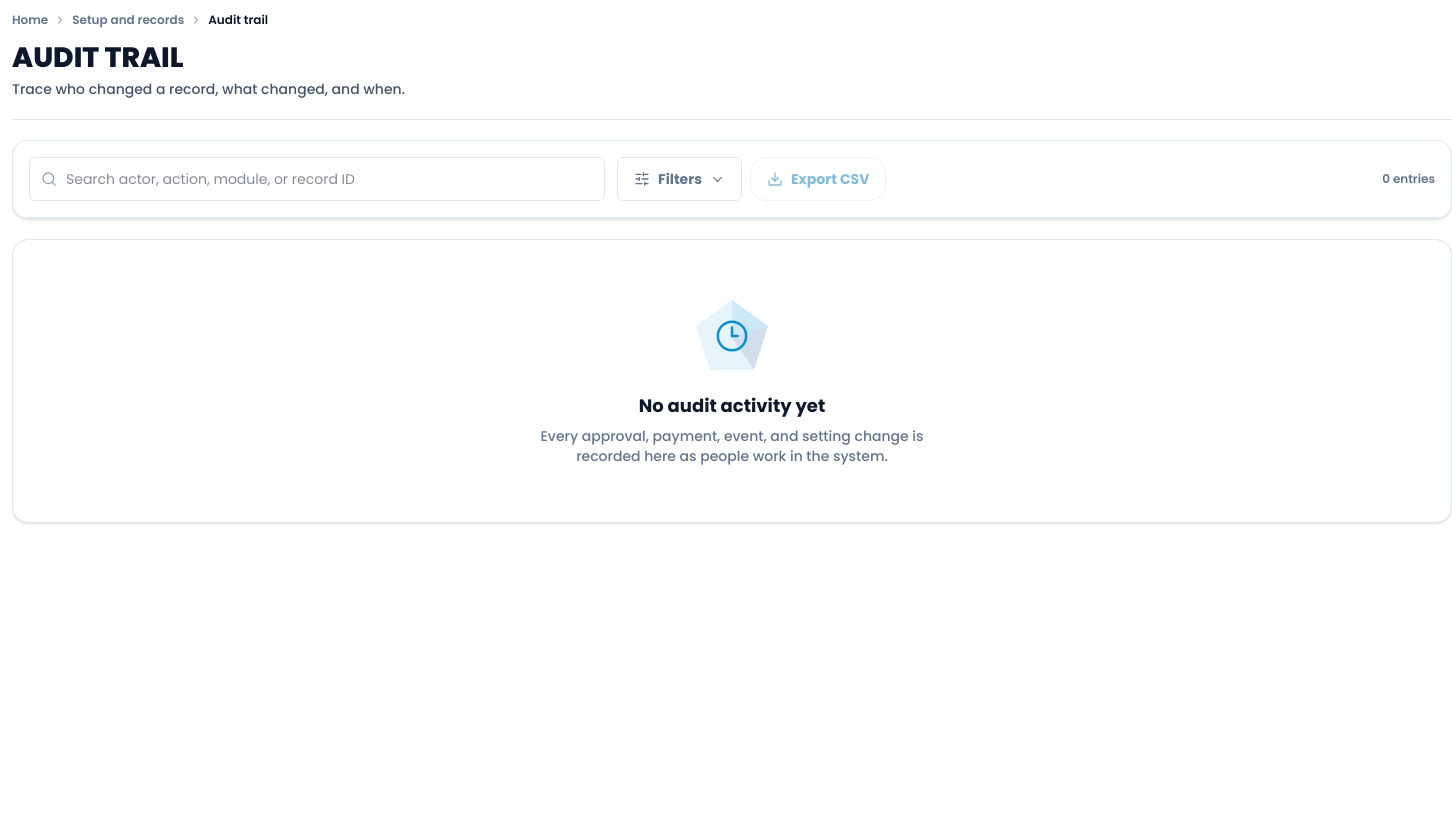
Test: GeneralAuditLogPage header › offers to clear filters when a filter leaves nothing
Expected: the text "No audit activity yet" is shown, [639,393,825,418]
In the field with placeholder "Search actor, action, module, or record ID": (317, 179) [29,157,605,201], type "budget"
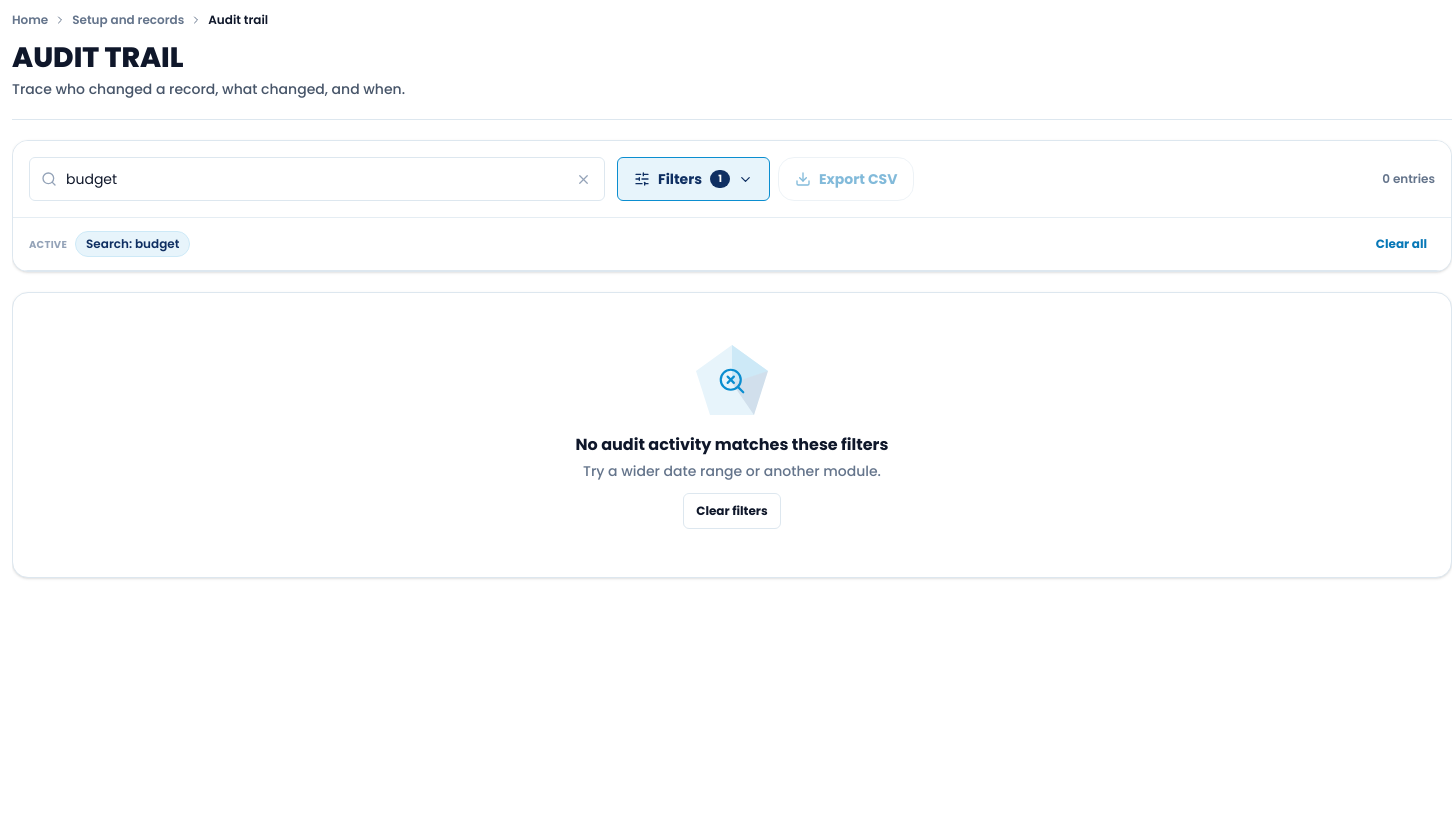
Now the text "No audit activity matches these filters" is shown, box [576,433,888,457]
Click the button "Clear filters": (732, 511) [683,493,781,529]
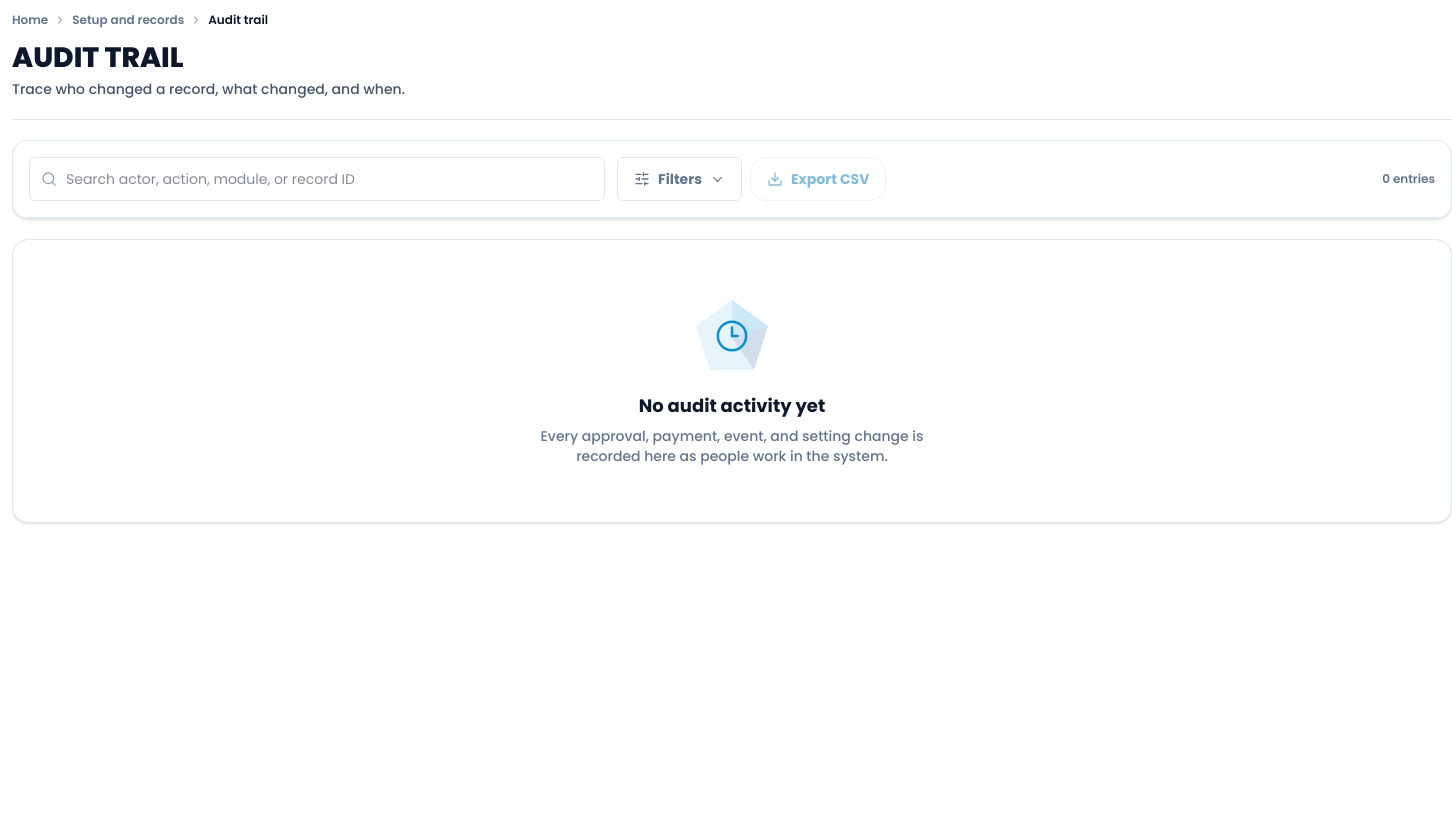
Now the text "No audit activity yet" is shown, box [639,393,825,418]
